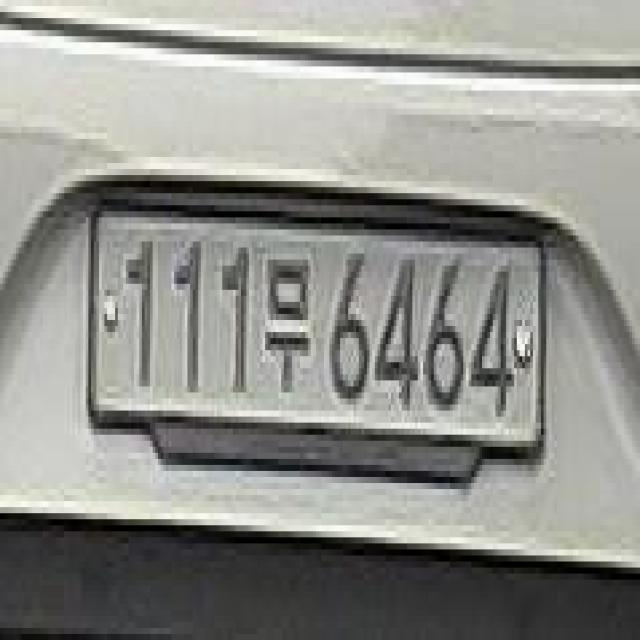illegal_plate: (82, 179, 550, 502)
